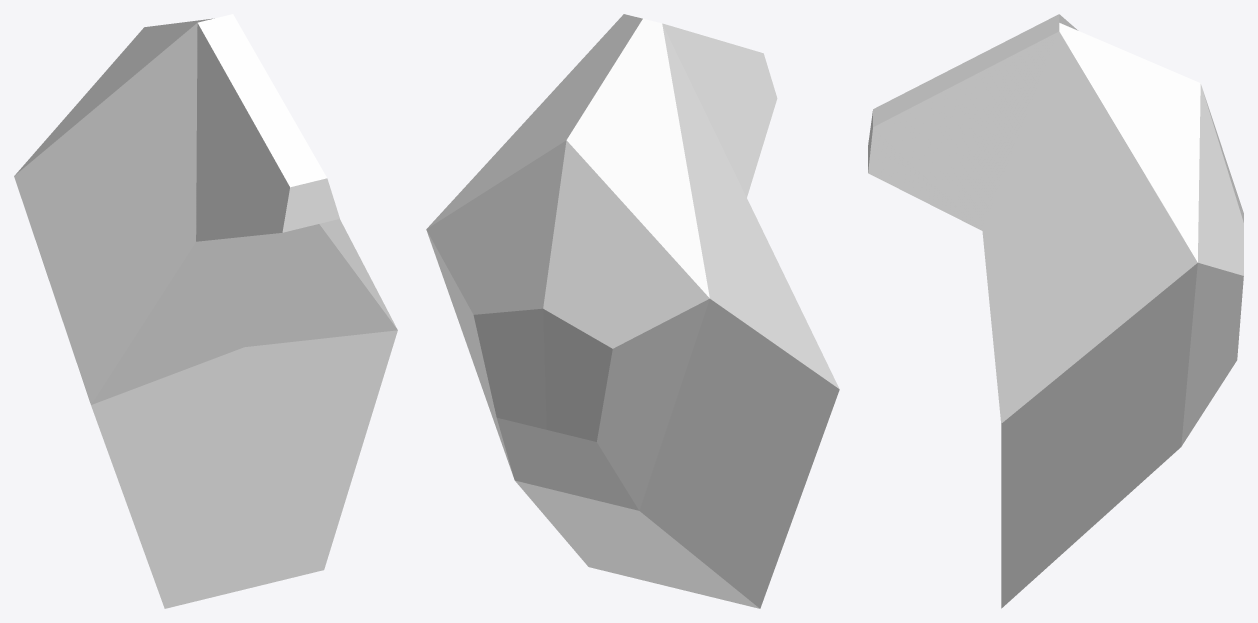
Rendered from head_5.fbx.
3 renders of one model, left to right at view 1: azimuth 30°, elevation 25°; view 2: azimuth 150°, elevation 25°; view 3: azimuth 270°, elevation 25°, orthographic. The views are drawn at different scales.
Parts seen in each view (by area): view 1: Cube.115; view 2: Cube.115; view 3: Cube.115.
Part boxes in pixels (x1,y1,x2,y2): Cube.115: [14, 14, 397, 608]; Cube.115: [426, 14, 839, 608]; Cube.115: [868, 14, 1243, 608].
Size of the model in its own units: 14.3 by 24.47 by 15.22.
